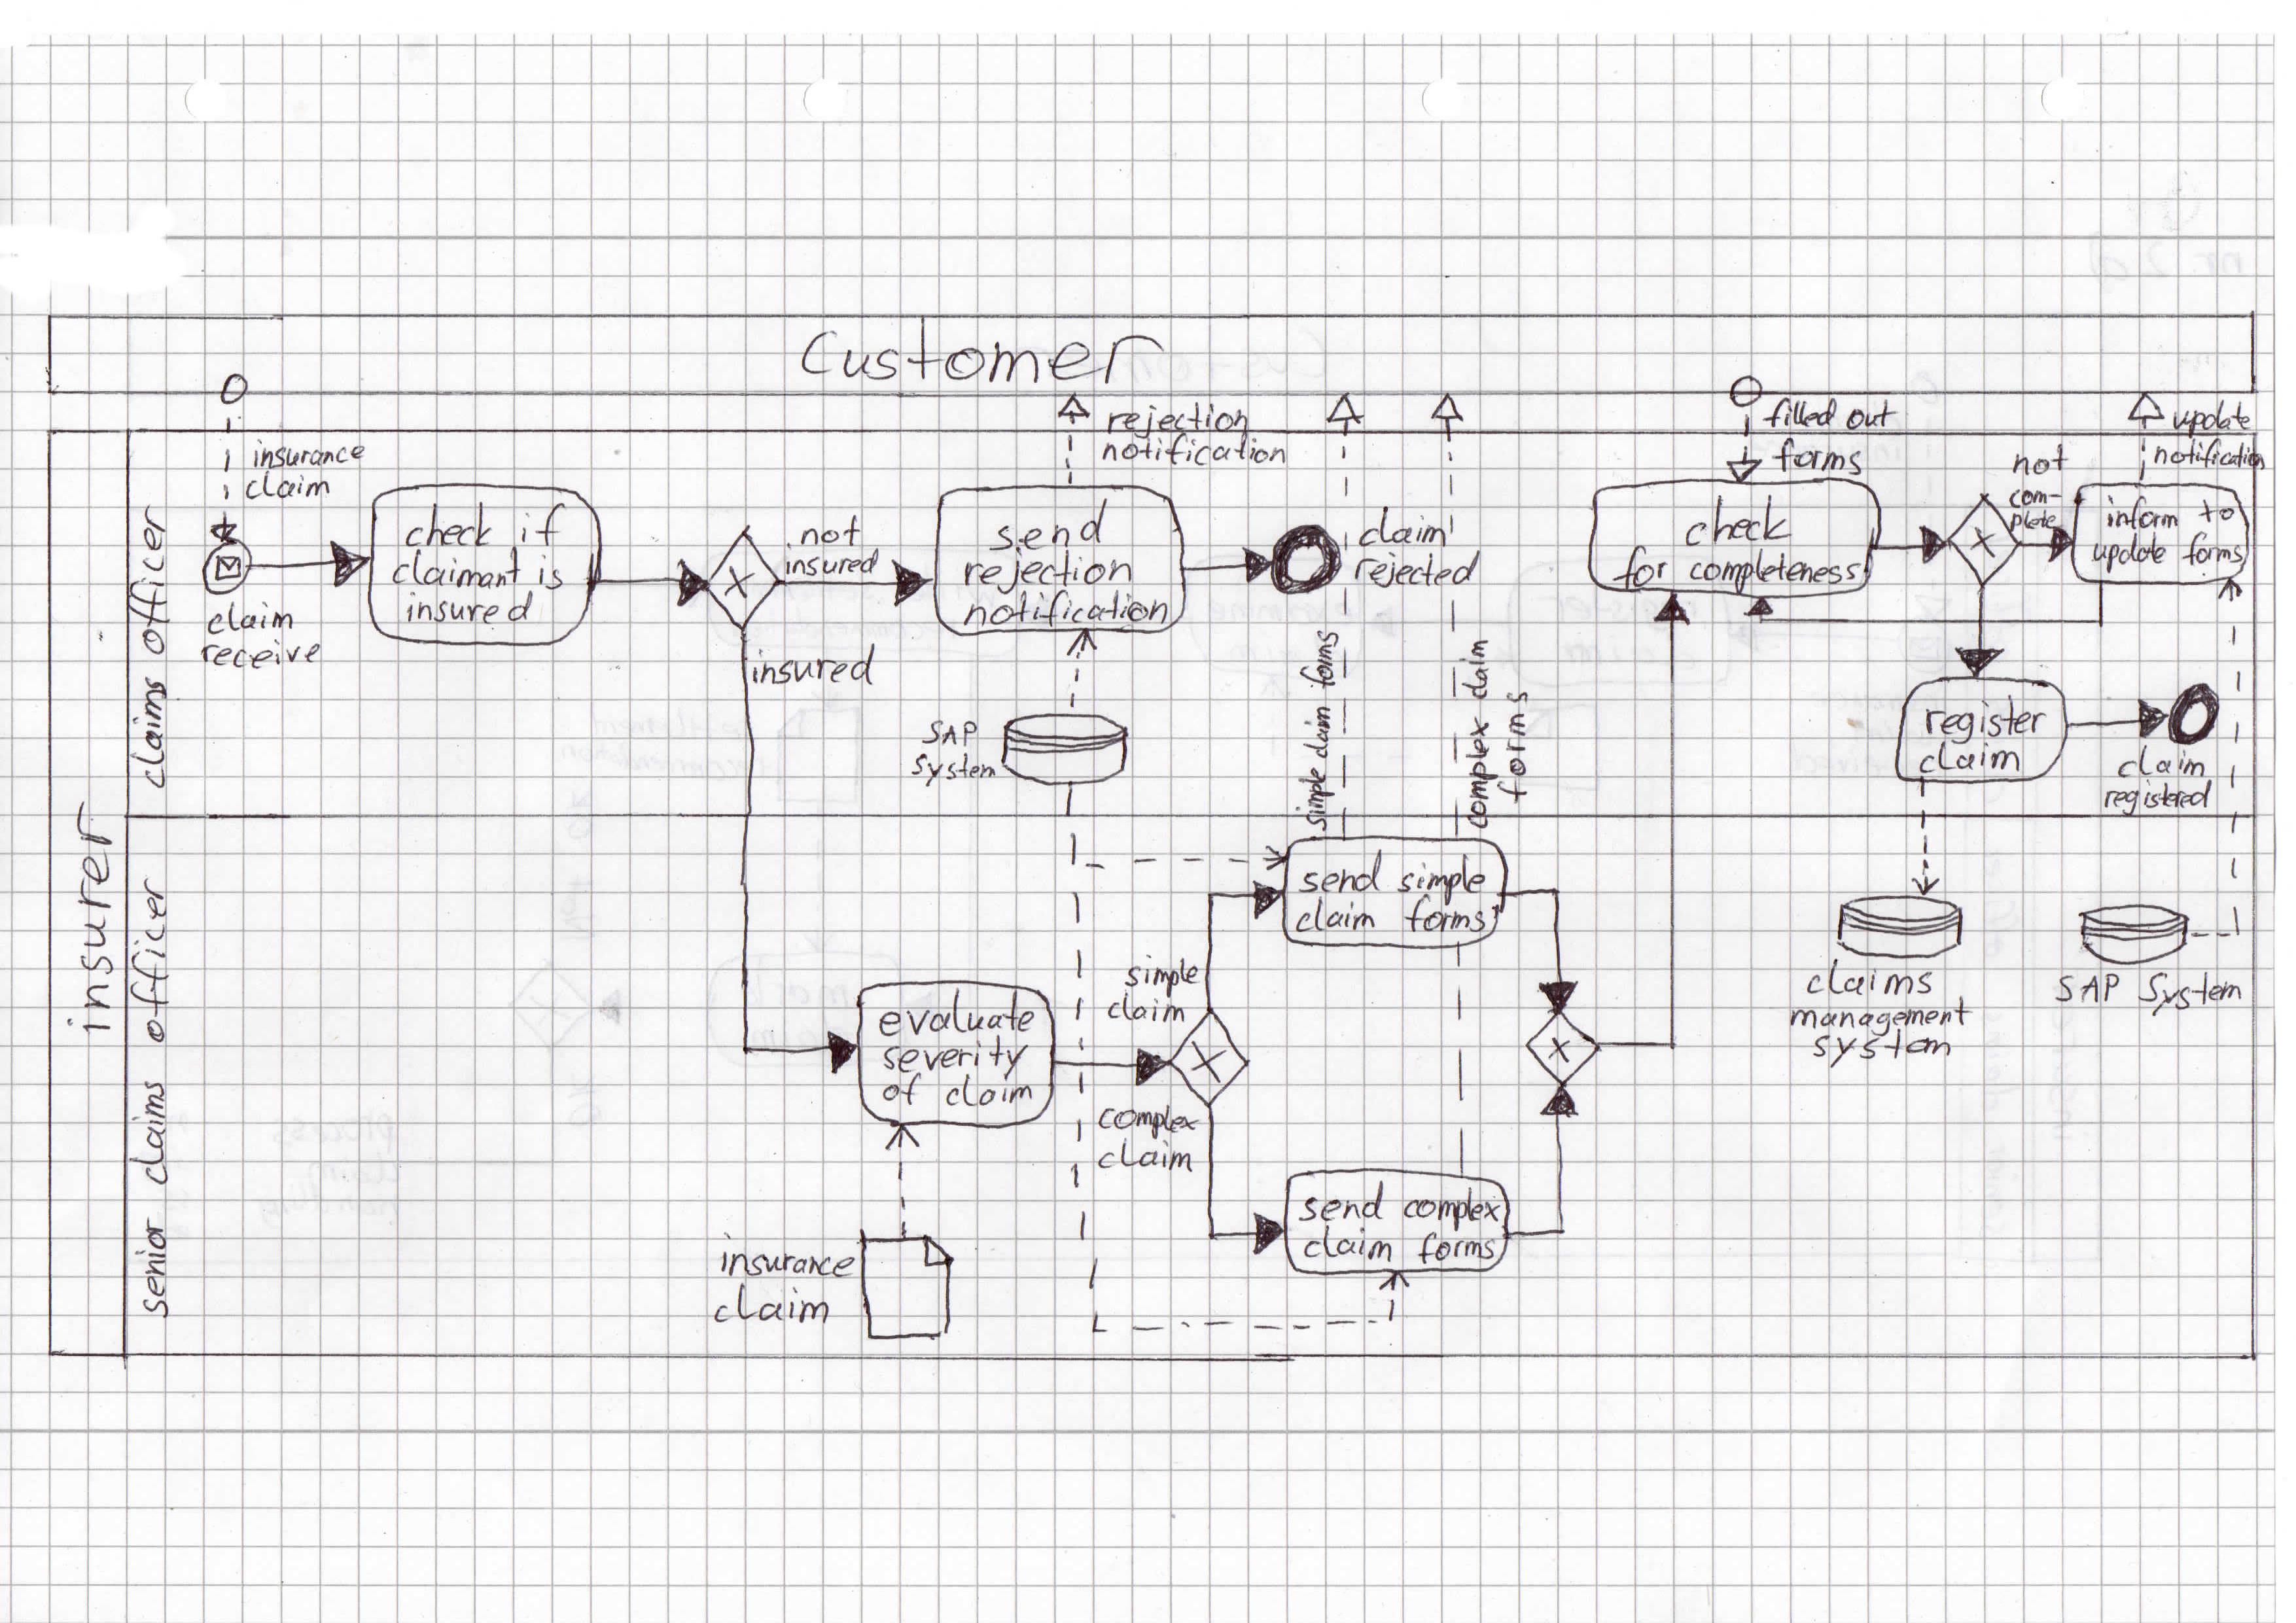SAP: (2055, 970, 2119, 1005), (922, 715, 978, 748)
System: (2143, 971, 2245, 1012), (908, 752, 996, 787)
check: (1681, 494, 1797, 548), (406, 508, 495, 548)
claim: (711, 1289, 833, 1328), (1098, 1138, 1200, 1177), (1356, 508, 1444, 552), (1920, 743, 2022, 776), (242, 472, 334, 508), (1300, 1228, 1395, 1261), (207, 604, 295, 638), (1295, 899, 1377, 934), (942, 1077, 1035, 1107), (2119, 752, 2206, 780), (1105, 996, 1186, 1026), (1460, 638, 1495, 699), (1300, 703, 1333, 759)
claimant: (386, 550, 523, 590)
claims: (130, 673, 172, 790), (1806, 966, 1941, 999), (132, 1077, 169, 1187)
com-: (2011, 478, 2062, 511)
completeness: (1690, 552, 1860, 585)
complex: (1458, 713, 1495, 834), (1096, 1105, 1202, 1136), (1404, 1193, 1500, 1224)
customer: (806, 328, 1154, 390)
evaluate: (882, 1003, 1035, 1040)
filled: (1769, 395, 1836, 434)
for: (1620, 546, 1669, 592)
forms: (1495, 687, 1534, 799), (1773, 441, 1867, 480), (1409, 896, 1483, 936), (1421, 1233, 1495, 1265), (2180, 534, 2245, 564), (1302, 631, 1337, 685)
if: (509, 502, 569, 555)
inform: (2106, 497, 2180, 530)
insurance: (710, 1245, 859, 1280), (248, 437, 369, 474)
insured: (747, 645, 884, 687), (392, 590, 541, 629), (785, 548, 882, 576)
insurer: (67, 804, 118, 1042)
is: (534, 553, 566, 590)
management: (1788, 998, 1975, 1033)
not: (799, 515, 863, 548), (2011, 443, 2068, 478)
notification: (964, 588, 1168, 627), (1100, 436, 1288, 469), (2148, 441, 2268, 472)
of: (882, 1077, 919, 1105)
officer: (126, 871, 170, 1043), (132, 508, 172, 650)
out: (1845, 393, 1895, 439)
plete: (2011, 508, 2055, 530)
receive: (204, 638, 323, 669)
register: (1924, 703, 2047, 739)
registered: (2101, 783, 2215, 813)
rejected: (1351, 552, 1476, 592)
rejection: (961, 553, 1138, 592), (1105, 395, 1249, 437)
send: (994, 509, 1107, 557), (1298, 1180, 1388, 1224), (1298, 854, 1386, 896)
senior: (132, 1214, 174, 1319)
severity: (880, 1040, 1036, 1077)
simple: (1393, 857, 1490, 899), (1124, 957, 1203, 994), (1298, 766, 1337, 836)
system: (1808, 1029, 1955, 1066)
to: (2196, 495, 2240, 525)
update: (2085, 534, 2170, 571), (2170, 397, 2252, 434)
